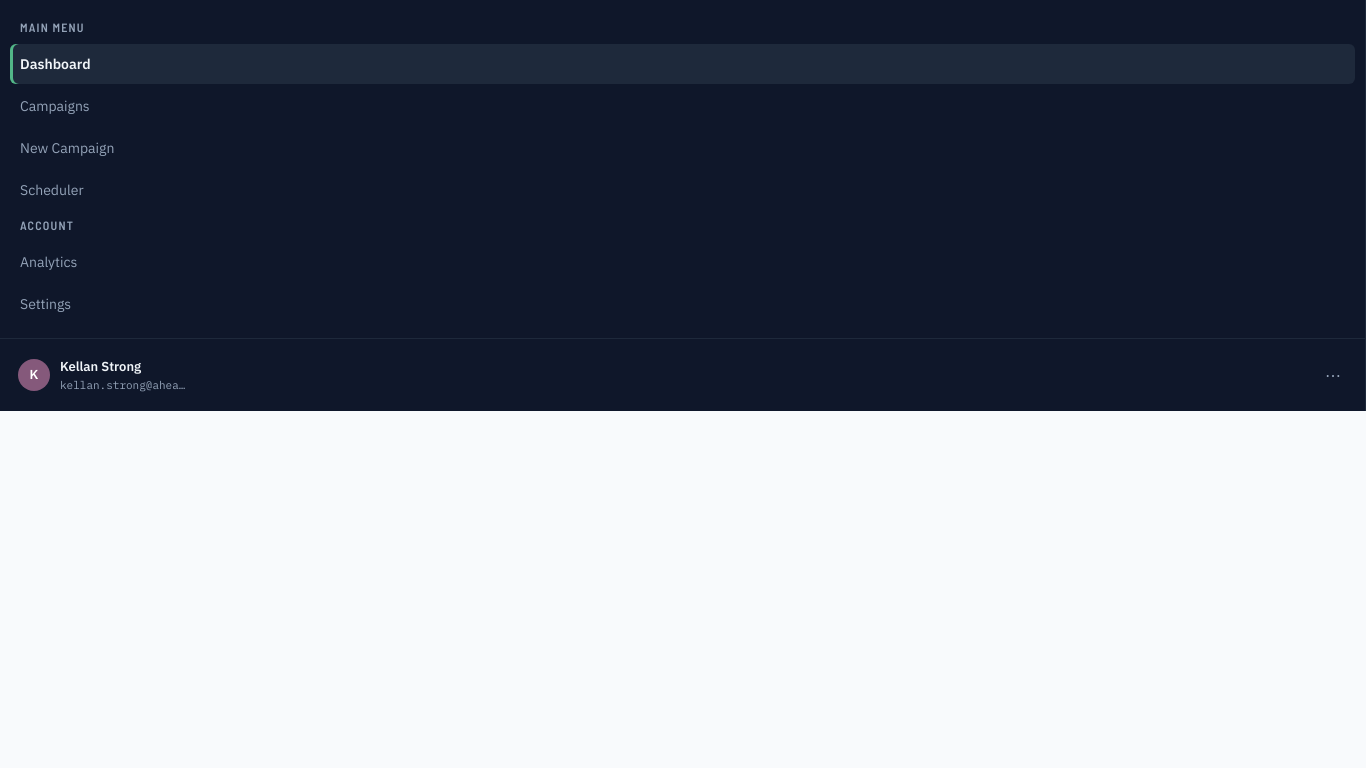
Test: Sidebar user menu › closes the logout panel when clicking outside
Click the button named "user menu" at (1333, 375), box 1319,360 -> 1347,390
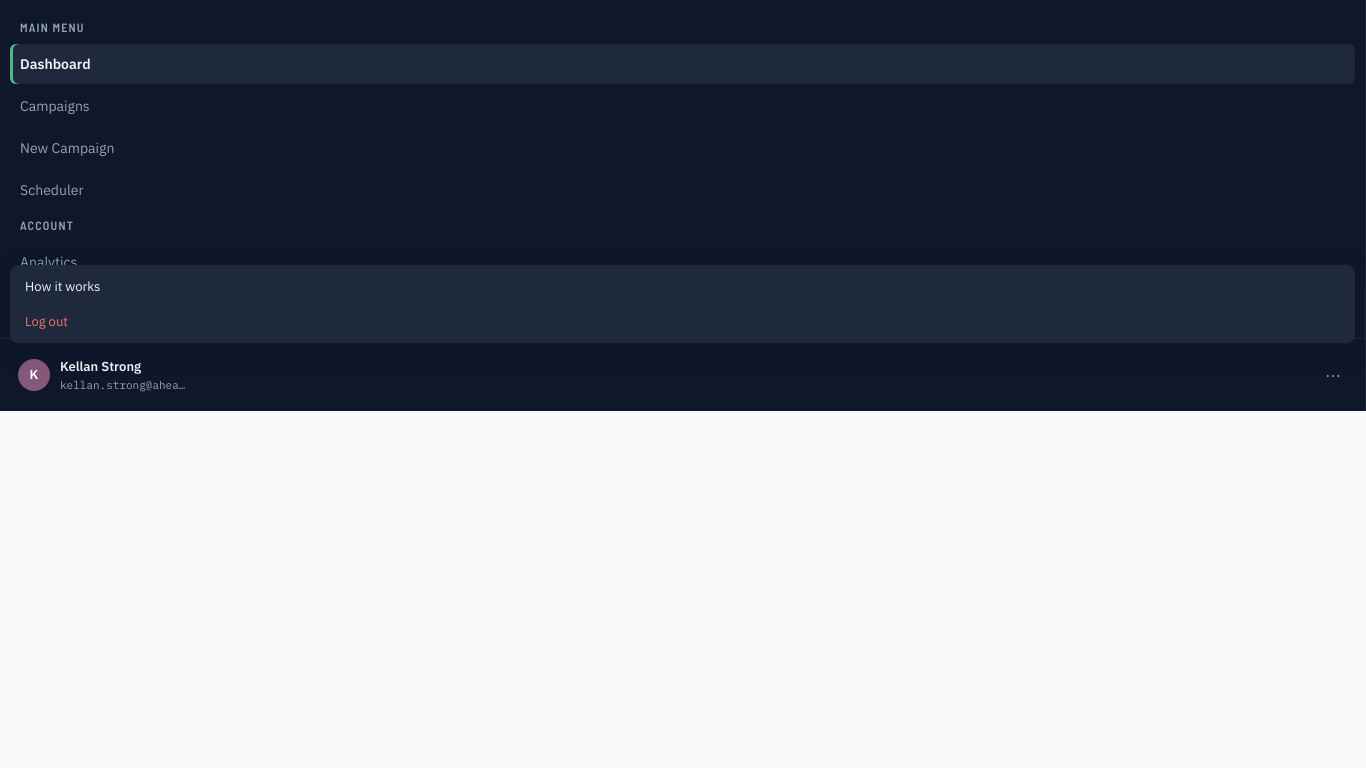
Result: the menu is shown at 10,265 -> 1355,343
// Simulate a click outside the sidebar bottom area
Press the mouse on the element that starts with "Main Menu" at (683, 384), box 0,0 -> 1365,767
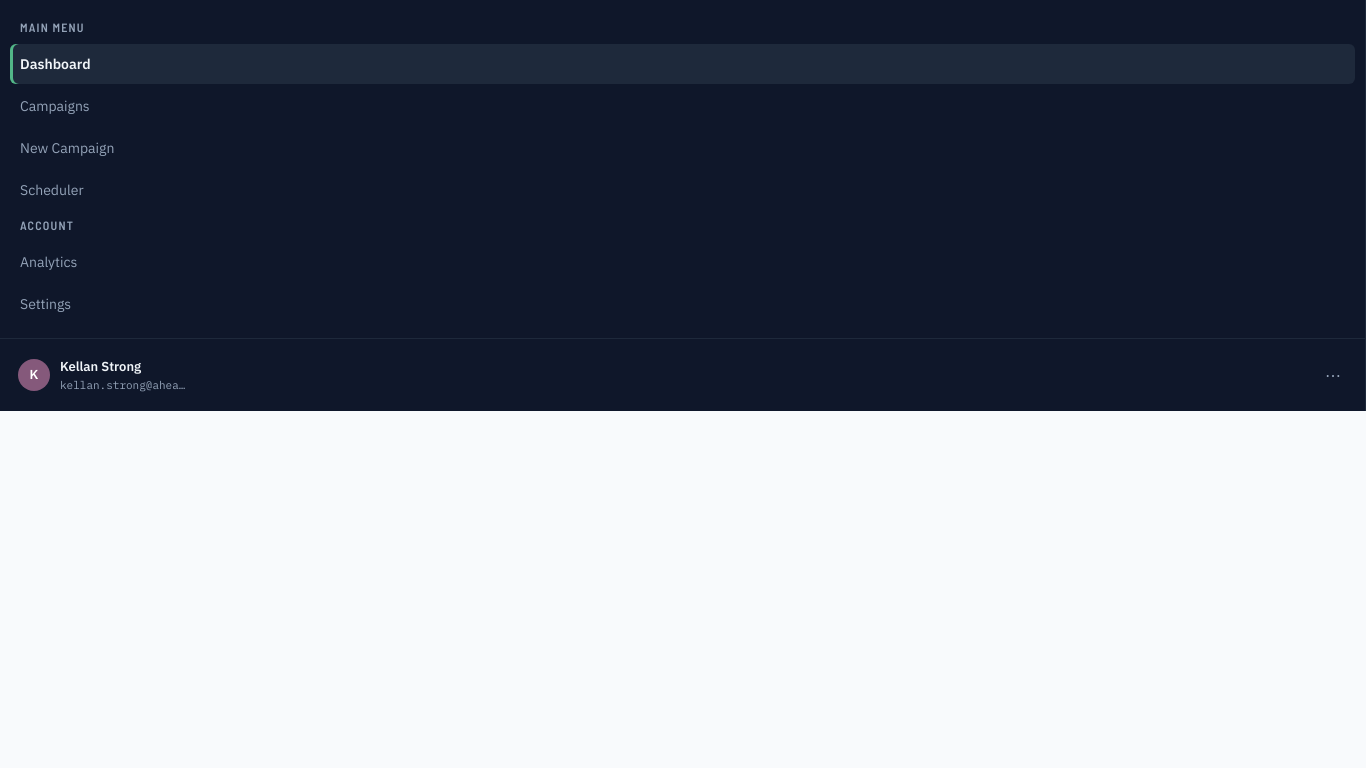
Result: the menu is gone
